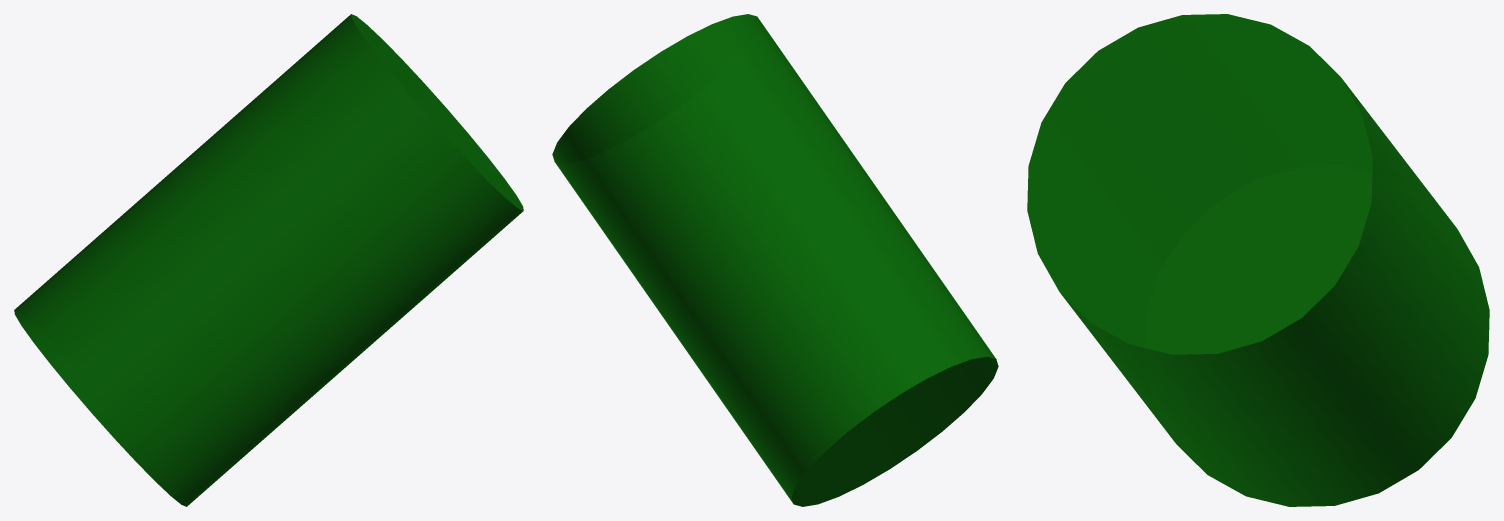
The model's file is Event_105588474_jet_5.fbx.
3 renders of one model, left to right at view 1: azimuth 30°, elevation 25°; view 2: azimuth 150°, elevation 25°; view 3: azimuth 270°, elevation 25°, orthographic. The views are drawn at different scales.
Parts seen in each view (by area): view 1: Model; view 2: Model; view 3: Model.
Part boxes in pixels (x1,y1,x2,y2): Model: (14,14,523,506); Model: (552,14,998,506); Model: (1027,14,1489,506).
Size of the model in its own units: 0.0779 by 0.0743 by 0.0522.
